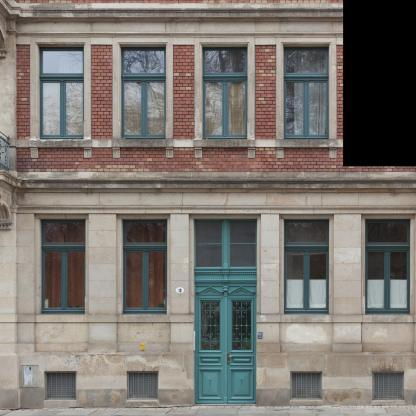Building Outline: (0, 0, 416, 408)
Dont: (194, 284, 257, 404)
Facade: (1, 0, 344, 407)
Floor: (0, 17, 416, 179)
Floor Slab: (0, 179, 416, 188), (0, 8, 343, 17)
Ground Floor: (0, 188, 416, 408)
Molding: (18, 172, 416, 188), (16, 3, 343, 17)
Window: (365, 219, 410, 314), (284, 219, 329, 314), (123, 219, 167, 314), (41, 219, 85, 314), (39, 47, 84, 139), (121, 47, 166, 139), (284, 47, 328, 139), (203, 47, 247, 139), (194, 220, 257, 269), (373, 371, 405, 400), (44, 371, 76, 400), (127, 371, 159, 400), (291, 371, 323, 400)
